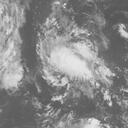cyclone: (34, 13, 113, 95)
